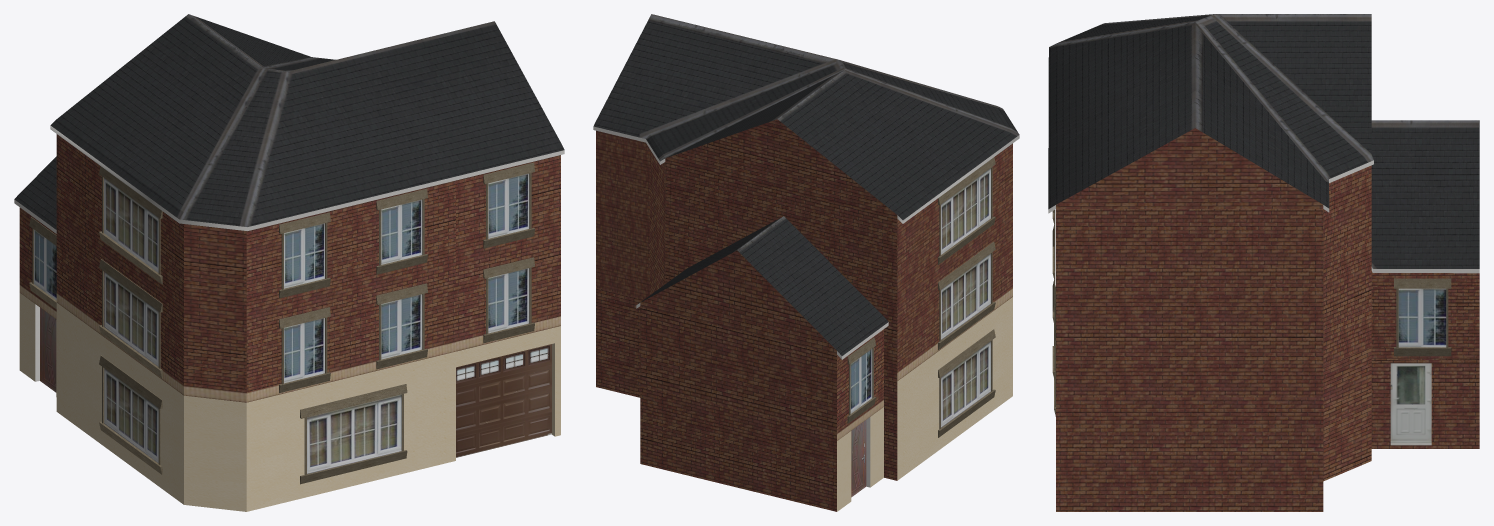
File: terracedcorner3story1m.FBX
The picture shows the model from 3 angles, left to right: view 1: azimuth 30°, elevation 25°; view 2: azimuth 150°, elevation 25°; view 3: azimuth 270°, elevation 25°; orthographic projection. The views are drawn at different scales.
Parts seen in each view (by area): view 1: Box004; view 2: Box004; view 3: Box004.
Part boxes in pixels (x1,y1,x2,y2): Box004: (14, 14, 564, 511); Box004: (593, 14, 1019, 511); Box004: (1048, 14, 1479, 511).
Bounding box in the file's own units: 1297 × 1258 × 1281.
